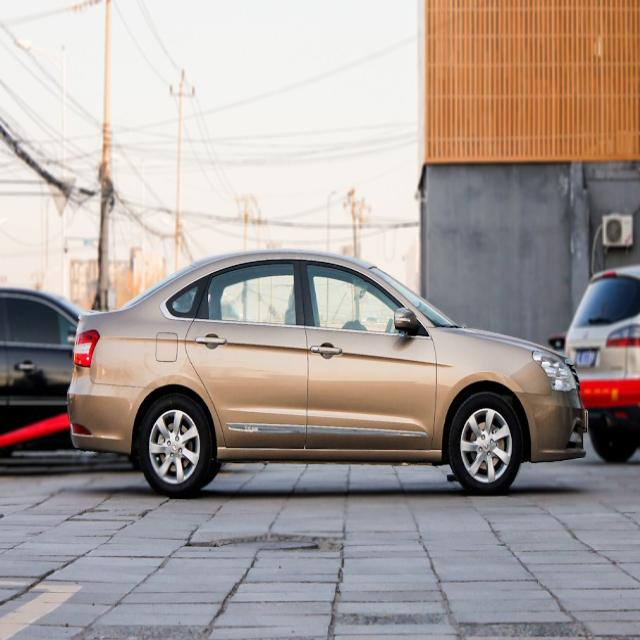back_right_side_light: (73, 327, 101, 371)
door: (185, 260, 308, 447)
front_bumper: (524, 381, 592, 461)
front_right_side_door: (296, 252, 438, 454)
front_right_side_light: (526, 344, 579, 394)
front_right_side_mirror: (390, 304, 421, 337)
rear_bumper: (62, 363, 137, 457)
wheel: (138, 390, 215, 498), (452, 394, 522, 492)
